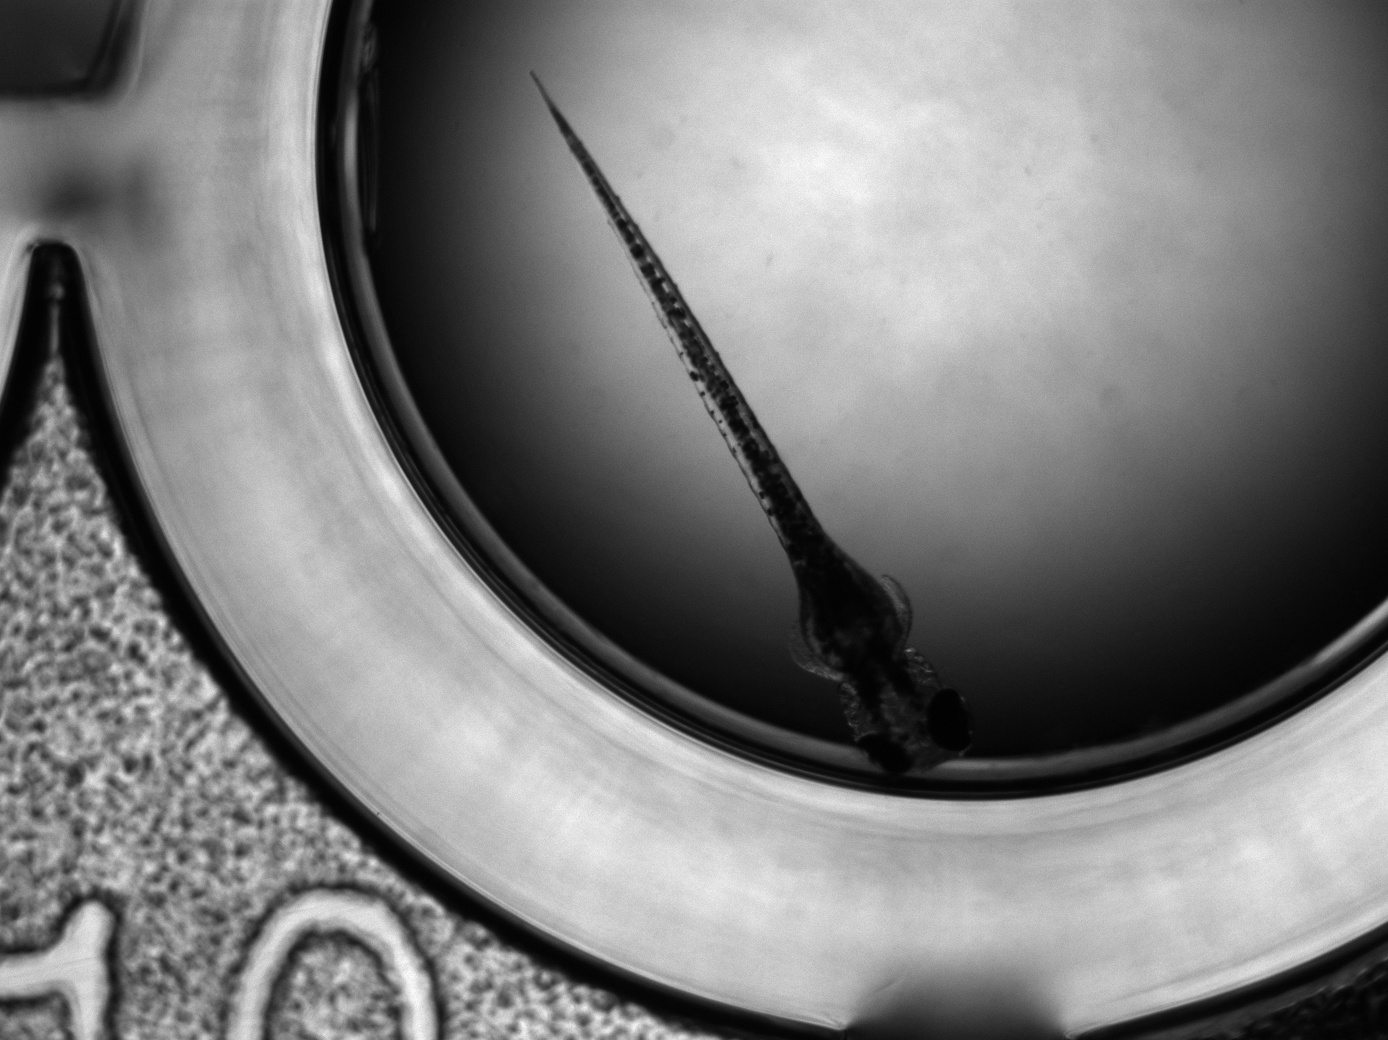embryo: (526, 64, 972, 776)
eye: (925, 688, 973, 753), (856, 734, 913, 776)
yolksac: (798, 572, 904, 672)
